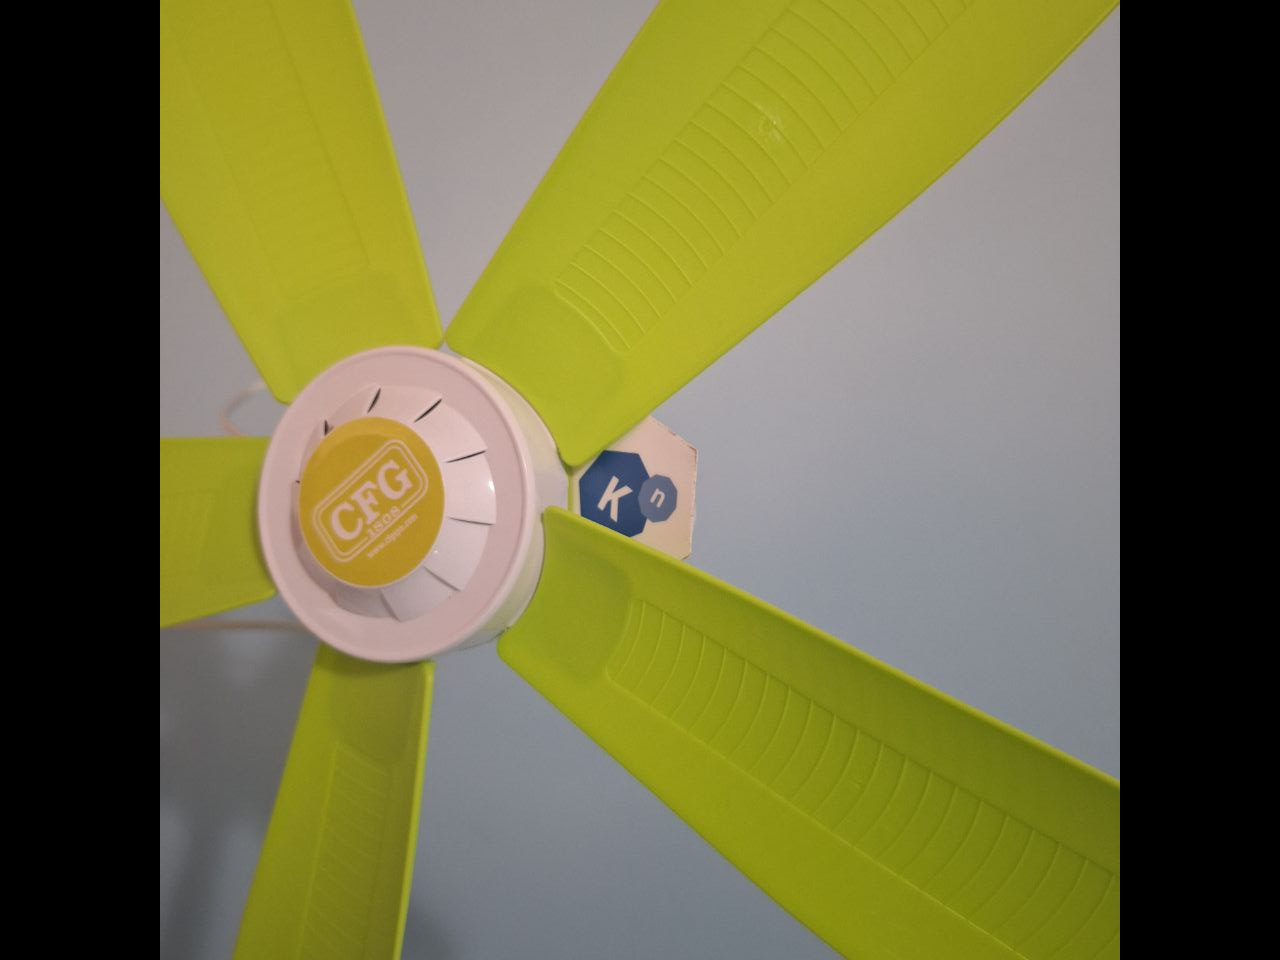knative: (577, 450, 679, 541)
